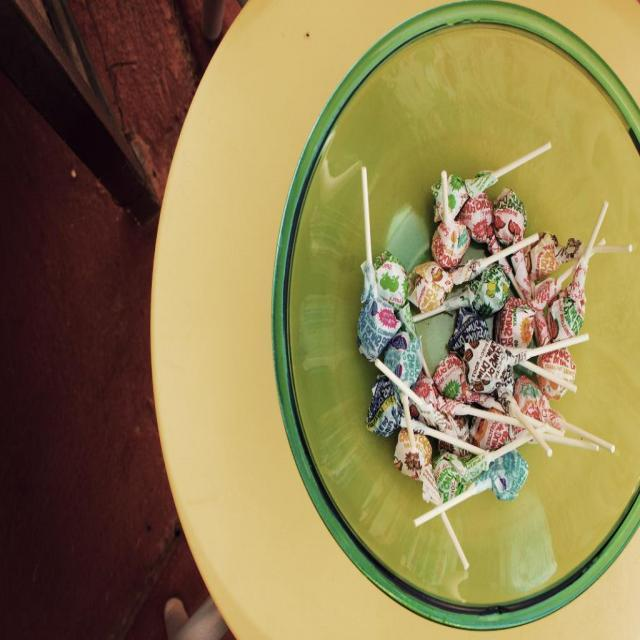ceramic plate: (278, 2, 636, 640)
